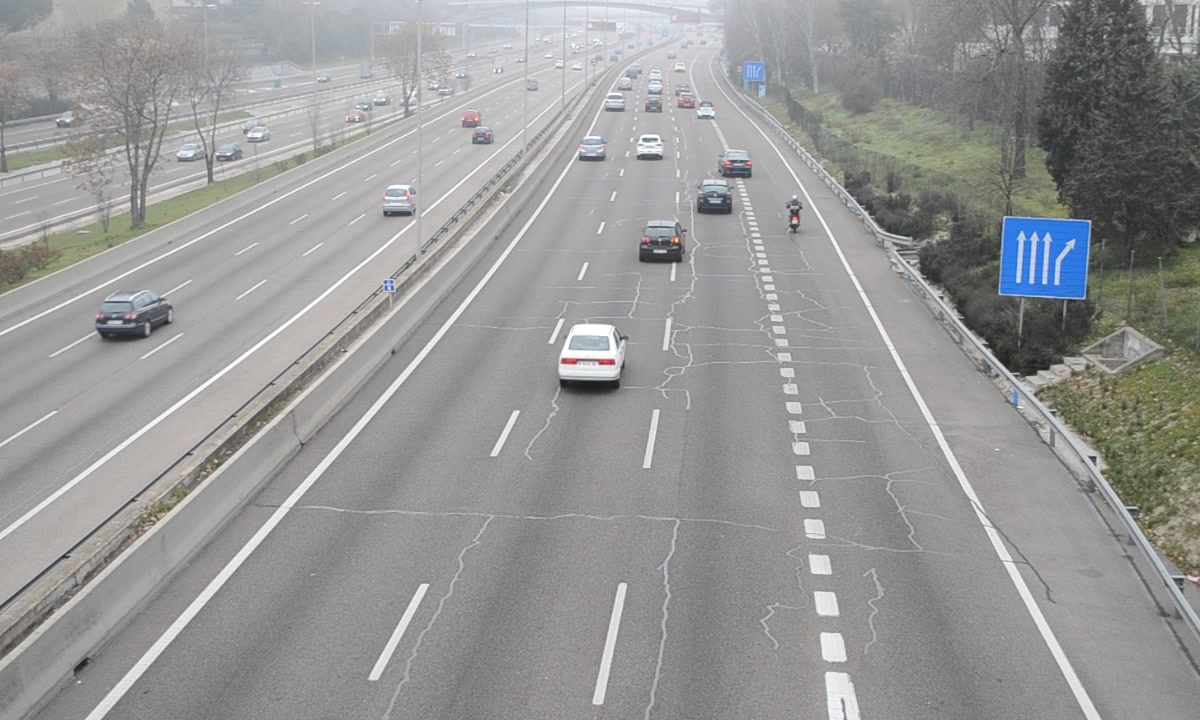car: (560, 325, 627, 381), (641, 221, 686, 259), (696, 179, 732, 214), (720, 149, 754, 178), (635, 133, 666, 161), (578, 136, 606, 161)
motorcycle: (787, 196, 805, 237)
